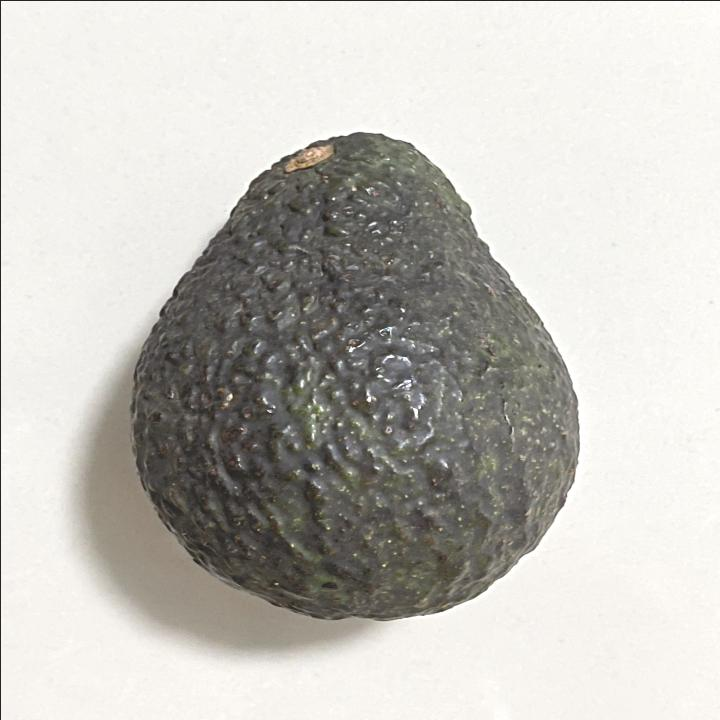Level1: (119, 111, 599, 639)
